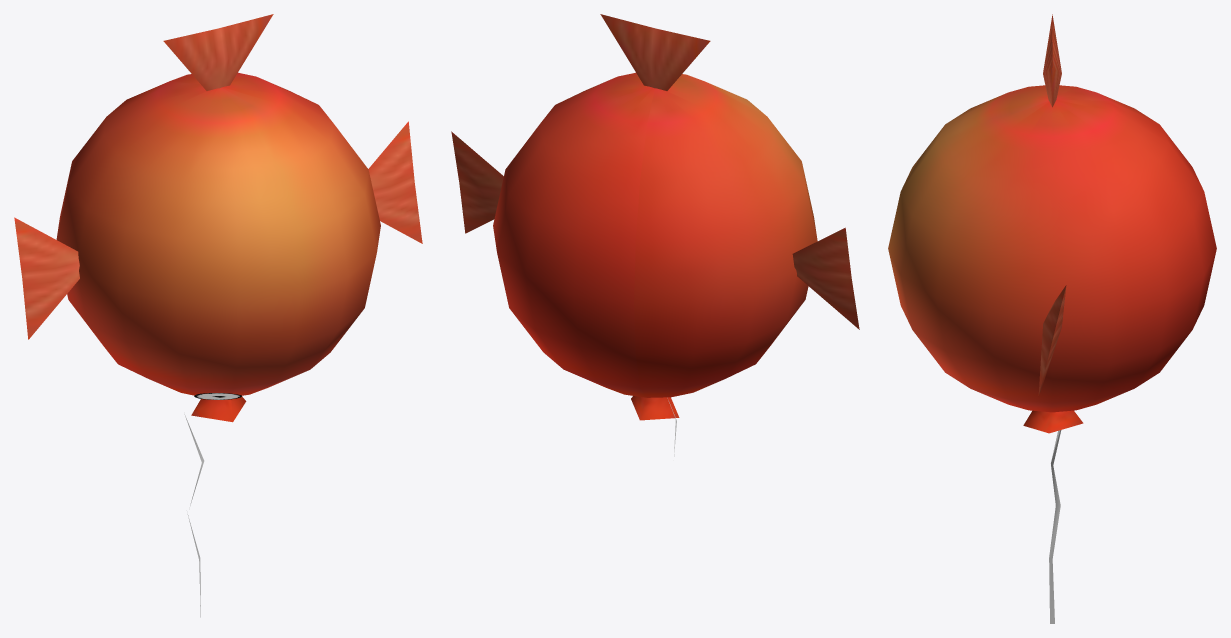
Rendered from balloonfish.glb.
3 renders of one model, left to right at view 1: azimuth 30°, elevation 25°; view 2: azimuth 150°, elevation 25°; view 3: azimuth 270°, elevation 25°, orthographic.
Parts seen in each view (by area): view 1: balloonFish, joint5; view 2: balloonFish, joint5; view 3: balloonFish, joint5.
Part boxes in pixels (box(x1,y1,x2,y2)): balloonFish: box(14, 72, 422, 617); joint5: box(163, 14, 273, 90); balloonFish: box(451, 72, 859, 456); joint5: box(600, 14, 710, 90); balloonFish: box(888, 85, 1216, 623); joint5: box(1043, 14, 1061, 107).
Size of the model in its own units: 0.4898 by 0.7014 by 0.353.
Materials: 3 (2 with a texture image).
